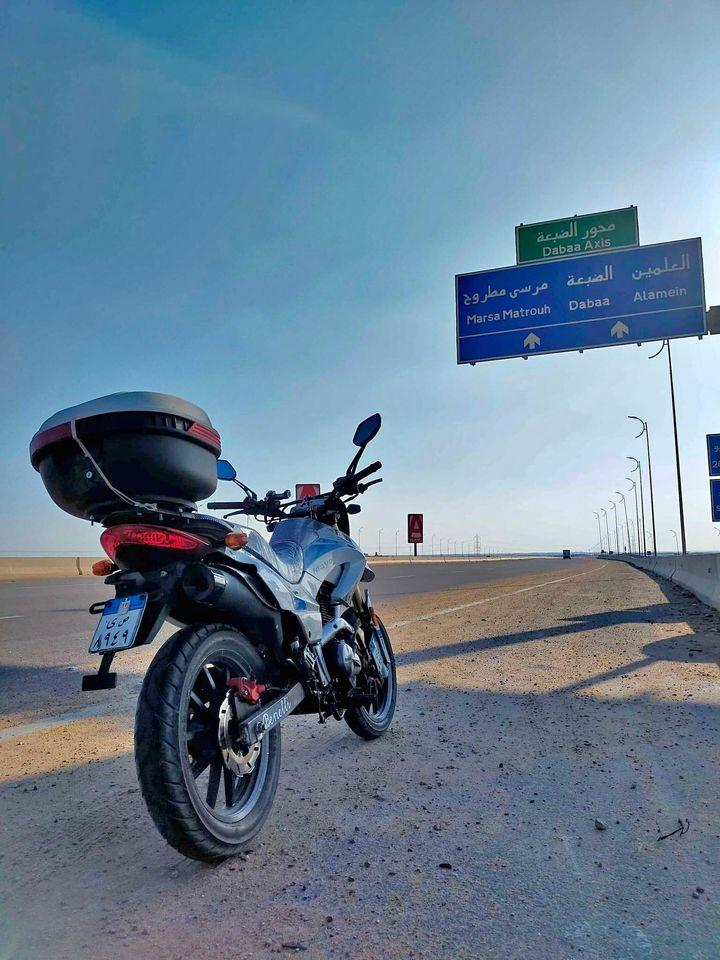License Plate: (89, 595, 152, 654)
